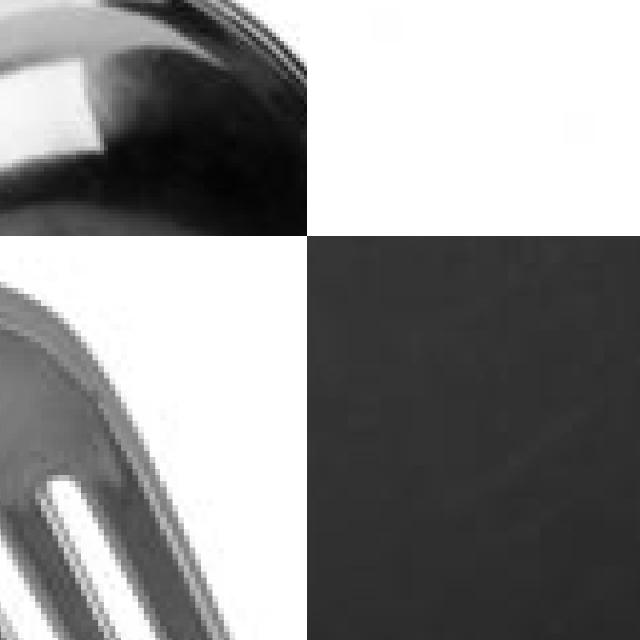forks: (0, 282, 307, 640)
spoons: (0, 0, 307, 236)
